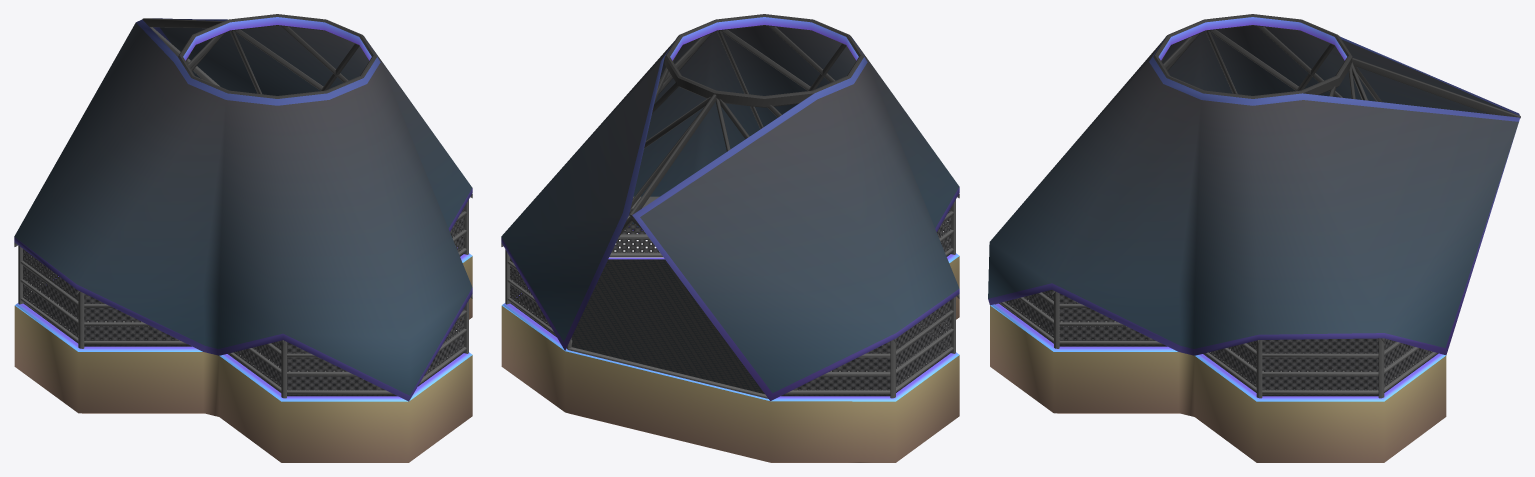
The model's file is dpmarket_navy.glb.
3 renders of one model, left to right at view 1: azimuth 30°, elevation 25°; view 2: azimuth 150°, elevation 25°; view 3: azimuth 270°, elevation 25°, orthographic.
Visible parts, largest first — view 1: tent-fabric.003, tent-base-floor.003, tent-screen.003, tent-horizontals.003, tent-ring.003, tent-structure.003, tent-verticals.001; view 2: tent-fabric.003, tent-base-floor.003, tent-screen.003, tent-structure.003, tent-ring.003, tent-horizontals.003, tent-verticals.001; view 3: tent-fabric.003, tent-base-floor.003, tent-screen.003, tent-horizontals.003, tent-structure.003, tent-ring.003, tent-verticals.001.
Boxes of the visible parts, bbox=[...] form: tent-fabric.003: bbox=[14, 18, 472, 401]; tent-base-floor.003: bbox=[14, 247, 472, 462]; tent-screen.003: bbox=[23, 208, 464, 390]; tent-horizontals.003: bbox=[20, 211, 466, 394]; tent-ring.003: bbox=[178, 14, 376, 98]; tent-structure.003: bbox=[14, 18, 472, 344]; tent-verticals.001: bbox=[18, 200, 468, 398]; tent-fabric.003: bbox=[501, 25, 959, 400]; tent-base-floor.003: bbox=[501, 253, 959, 462]; tent-screen.003: bbox=[510, 208, 951, 390]; tent-structure.003: bbox=[501, 26, 959, 343]; tent-ring.003: bbox=[664, 14, 863, 107]; tent-horizontals.003: bbox=[507, 196, 953, 398]; tent-verticals.001: bbox=[505, 200, 955, 398]; tent-fabric.003: bbox=[988, 25, 1519, 355]; tent-base-floor.003: bbox=[990, 290, 1446, 462]; tent-screen.003: bbox=[1004, 290, 1432, 390]; tent-horizontals.003: bbox=[999, 292, 1437, 394]; tent-structure.003: bbox=[1052, 26, 1520, 344]; tent-ring.003: bbox=[1153, 14, 1352, 98]; tent-verticals.001: bbox=[995, 291, 1384, 398].
Size of what is drawn, in the model's own units: 6.76 by 5.13 by 7.88.
Materials: 5 (5 with a texture image).
